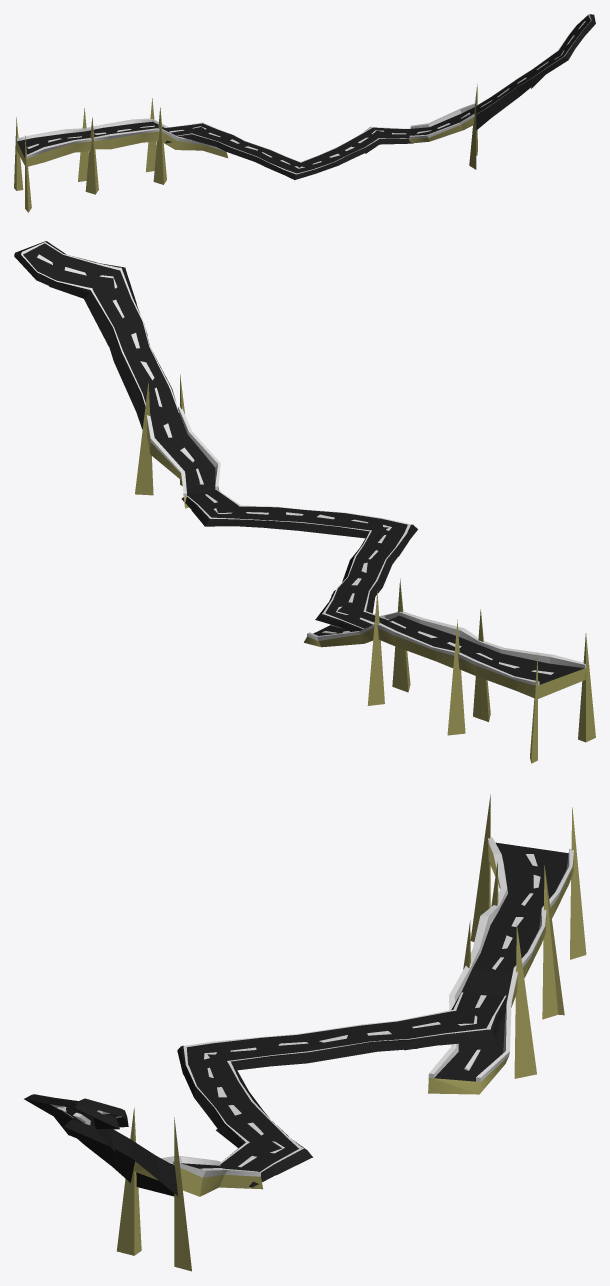
Rendered from c_road_lighthouse.fbx.
3 views of the same model, one above another, from view 1: azimuth 30°, elevation 25°; view 2: azimuth 150°, elevation 25°; view 3: azimuth 270°, elevation 25° (orthographic). The views are drawn at different scales.
Visible parts, largest first — view 1: c_road_lighthouse; view 2: c_road_lighthouse; view 3: c_road_lighthouse.
Boxes of the visible parts, x1,y1,x2,y2 form: c_road_lighthouse: (14,14,595,212); c_road_lighthouse: (14,241,595,763); c_road_lighthouse: (24,794,586,1271).
Size of the model in its own units: 76.87 by 22.89 by 39.17.
